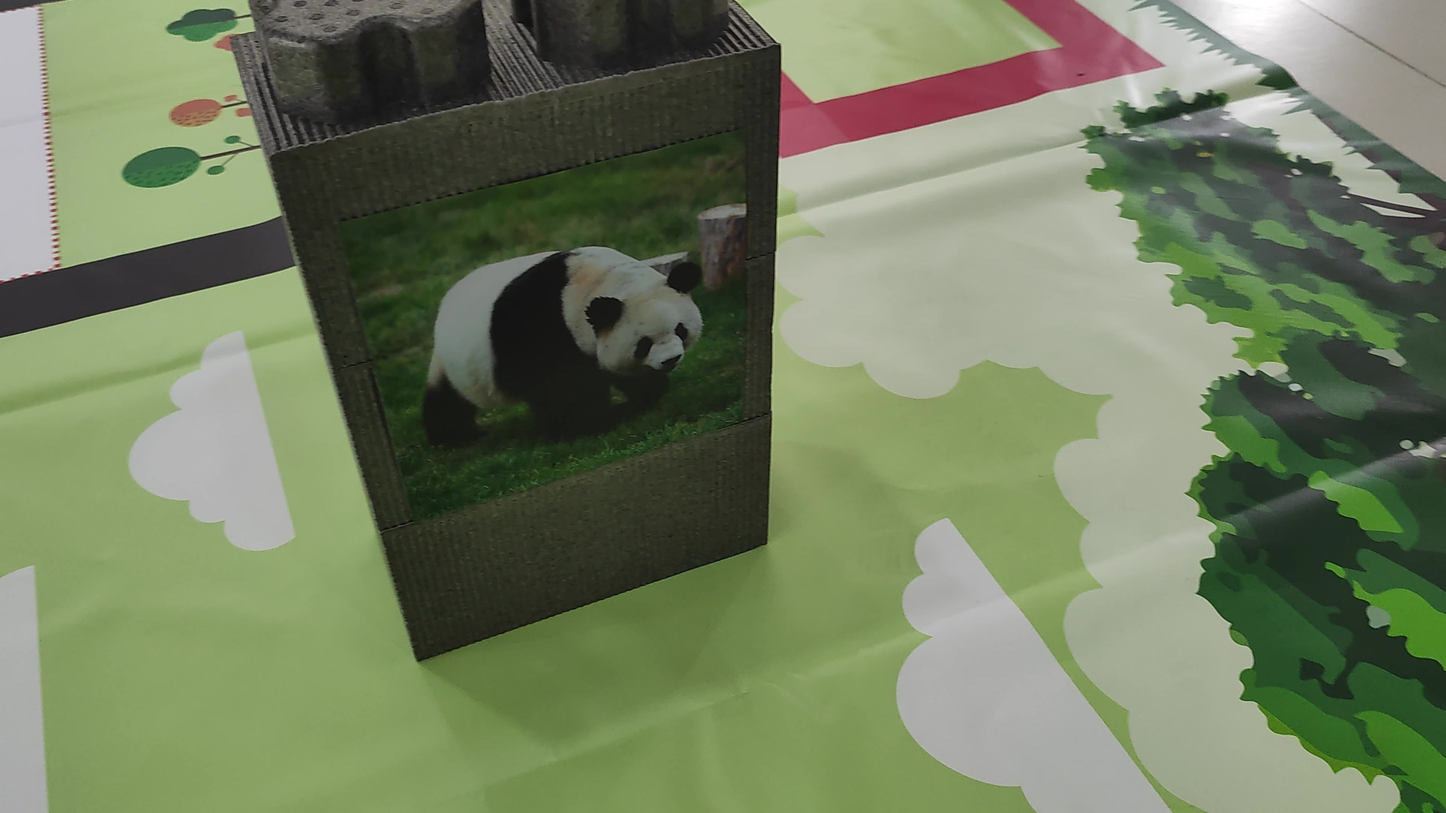panda: (414, 229, 712, 442)
